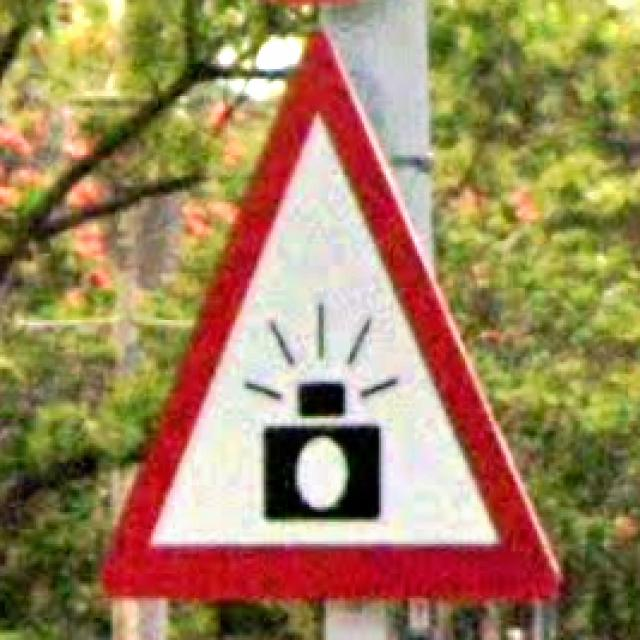speedcamera: (96, 25, 566, 608)
